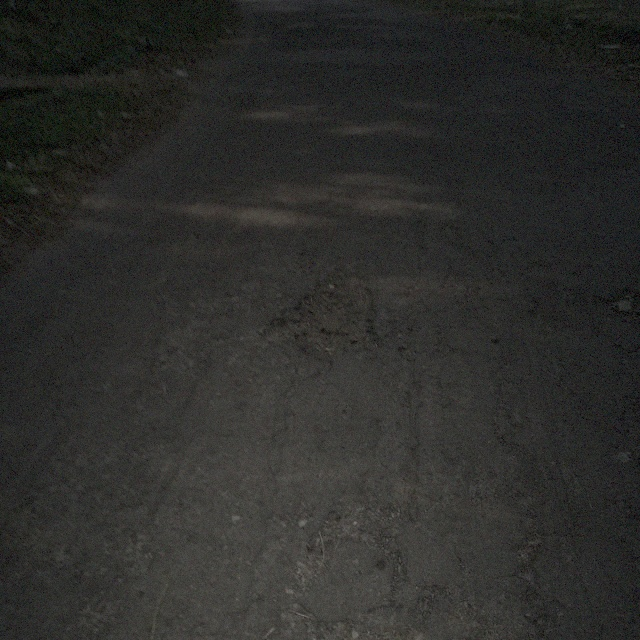pothole: (255, 262, 385, 364), (588, 284, 639, 327)
